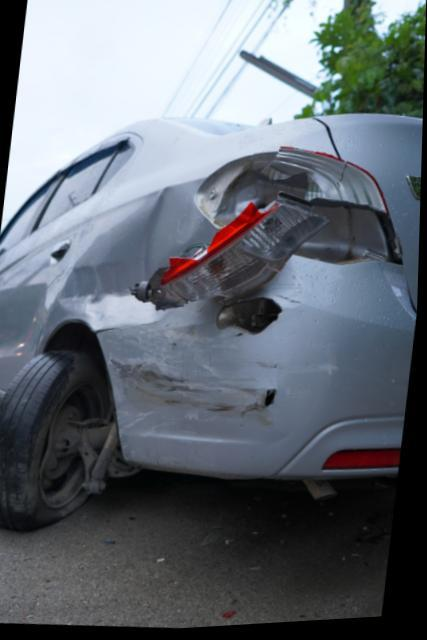crack: (218, 299, 283, 340)
dent: (59, 182, 202, 330)
lamp broken: (163, 156, 394, 311)
scratch: (115, 331, 283, 431)
tire flat: (0, 351, 115, 531)
